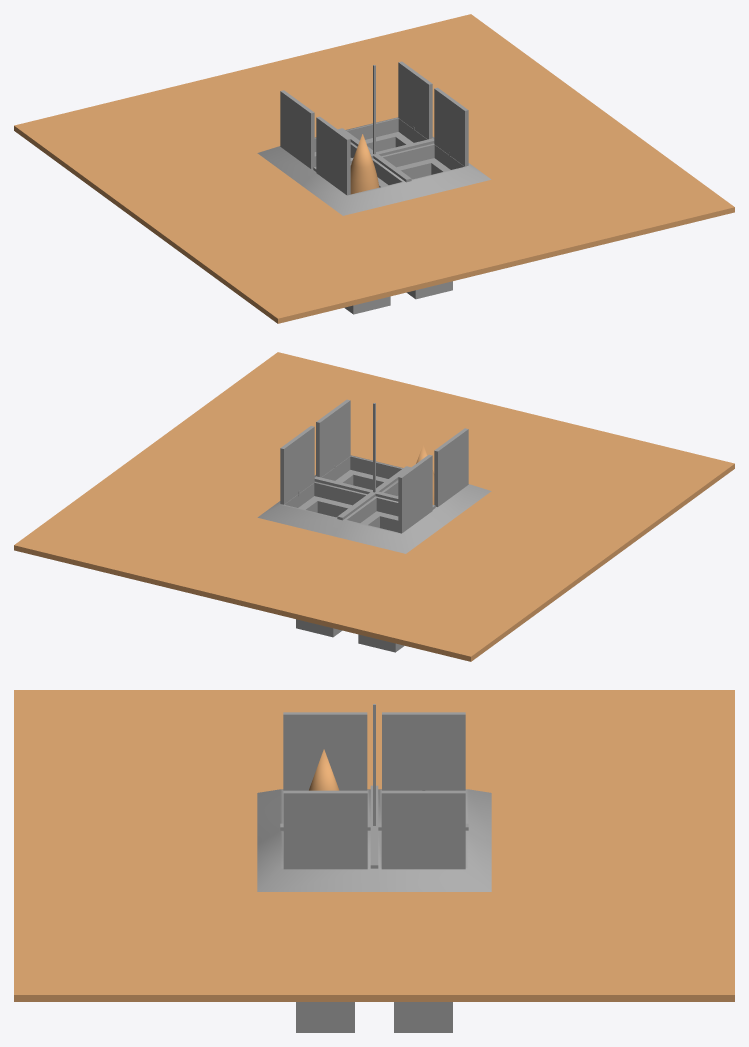
Rendered from Silo_Missile.fbx.
The picture shows the model from 3 angles, top to bottom: view 1: azimuth 30°, elevation 25°; view 2: azimuth 150°, elevation 25°; view 3: azimuth 270°, elevation 25°; orthographic projection. The views are drawn at different scales.
Parts seen in each view (by area): view 1: Prob, Base, Base_Sub; view 2: Prob, Base, Base_Sub; view 3: Prob, Base_Sub, Base.
Boxes of the visible parts, x1,y1,x2,y2 form: Prob: (14,14,734,323); Base: (257,65,491,314); Base_Sub: (280,61,468,195); Prob: (14,352,734,661); Base: (257,403,491,652); Base_Sub: (280,399,468,533); Prob: (14,690,734,1001); Base_Sub: (283,712,465,869); Base: (257,704,491,1032).
Size of the model in its own units: 92.17 by 41.64 by 92.17.
